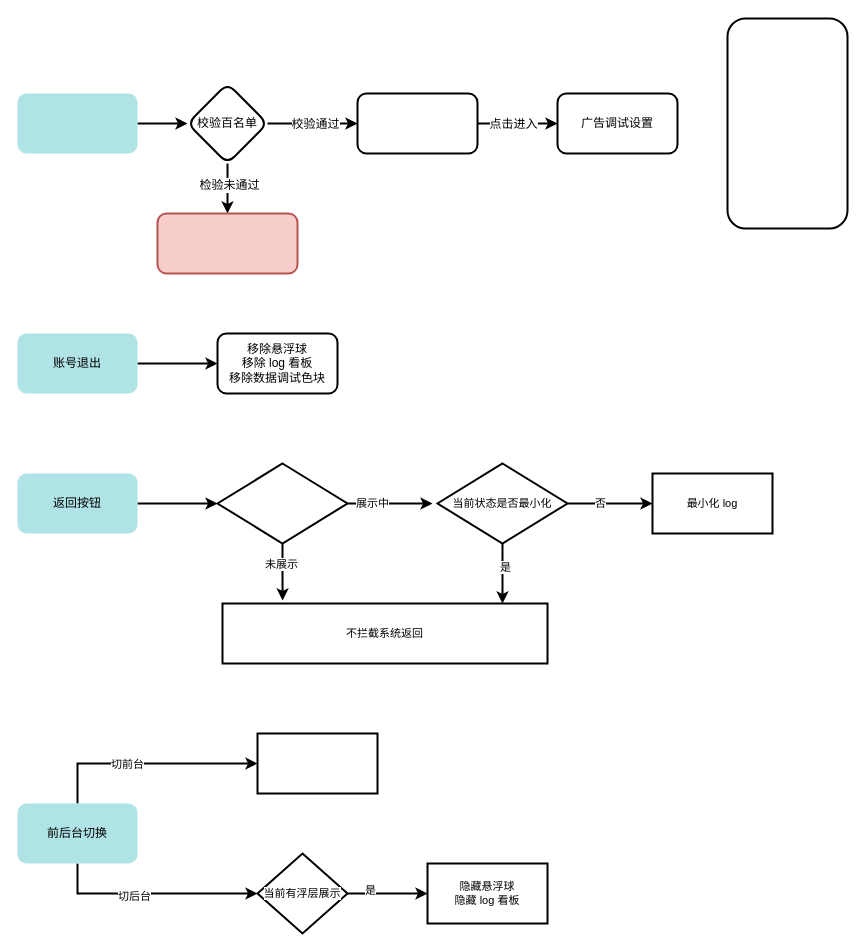
Some shapes in this 865 by 951 pixel diagram are drawn without their labels. Each missing label, with the centre of its shape:
1.是否展示数据调试遮罩 2.是否打开log 退出悬浮球(再次展示悬浮球需要扫码): (787,123)
Toast提示不支持的二维码: (227,243)
展示悬浮球: (417,123)
当前 log看板是否展示: (282,503)
恢复之前展示的浮层: (317,763)
登录用户扫码: (77,123)
